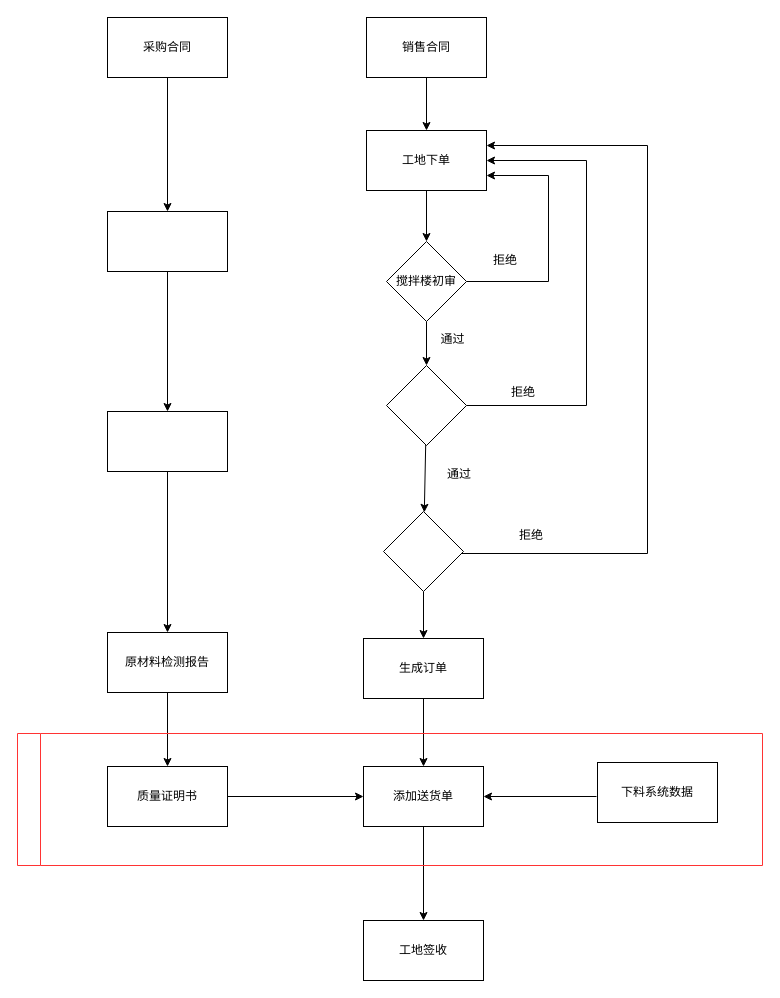
Some shapes in this 780 by 998 pixel diagram are drawn without their labels. Each missing label, with the box of its shape:
关联点: (16, 732, 762, 866)
原材料检测: (106, 410, 228, 472)
原材料进场: (106, 210, 228, 272)
工地审核: (386, 364, 466, 446)
搅拌楼二审: (382, 510, 464, 592)
